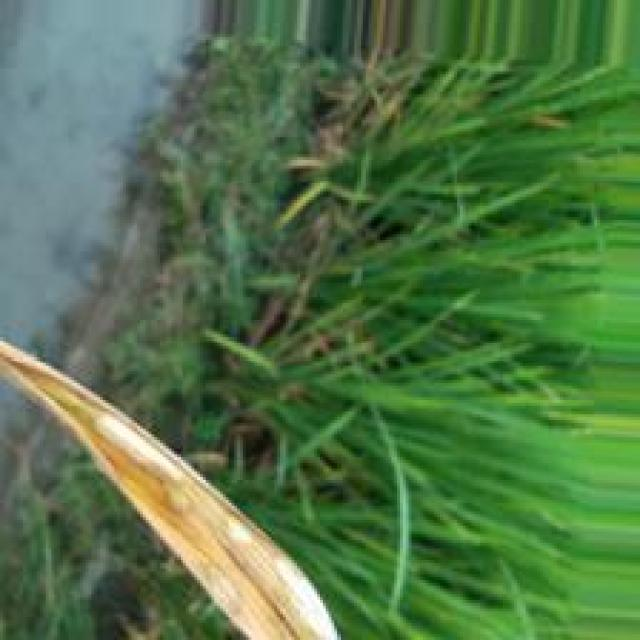Leaf_Scald: (1, 343, 337, 637)
